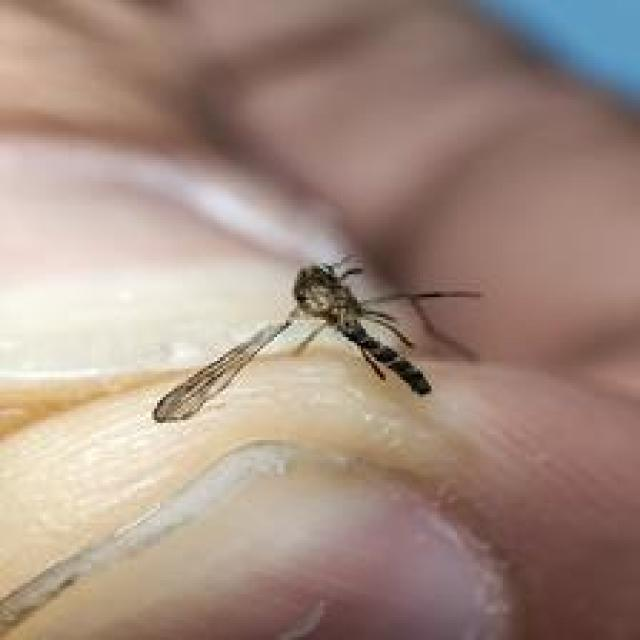Culex: (150, 250, 484, 424)
